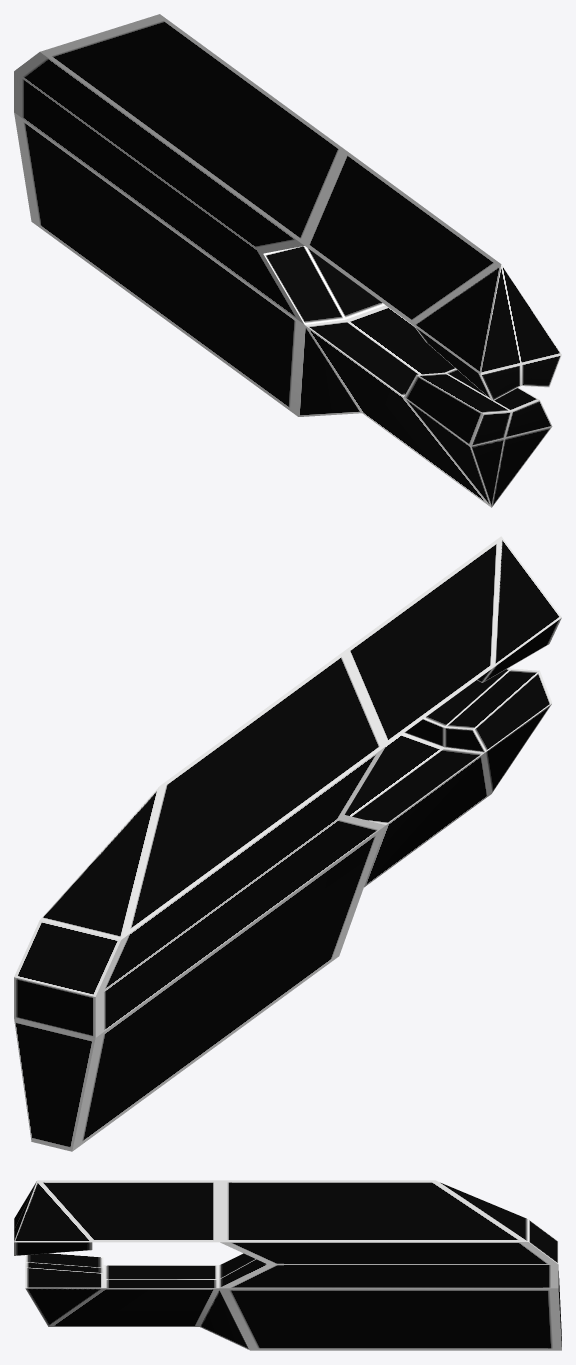
Rendered from Pistol.fbx.
3 views of the same model, one above another, from view 1: azimuth 30°, elevation 25°; view 2: azimuth 150°, elevation 25°; view 3: azimuth 270°, elevation 25° (orthographic). The views are drawn at different scales.
Visible parts, largest first — view 1: pPyramid3; view 2: pPyramid3; view 3: pPyramid3.
Part boxes in pixels (<box>): pPyramid3: <box>14,14,561,507</box>; pPyramid3: <box>14,536,561,1151</box>; pPyramid3: <box>14,1180,561,1350</box>.
Size of the model in its own units: 0.7013 by 2.32 by 6.99.
Materials: 1 (1 with a texture image).
